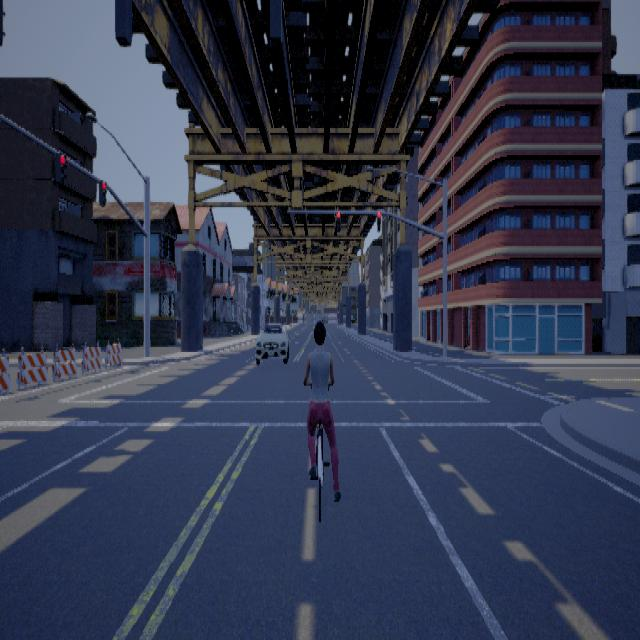bike: (296, 310, 346, 520)
red_light: (55, 152, 66, 184), (98, 178, 106, 206), (376, 210, 380, 230), (336, 210, 340, 230)
vehicle: (254, 322, 288, 364)
